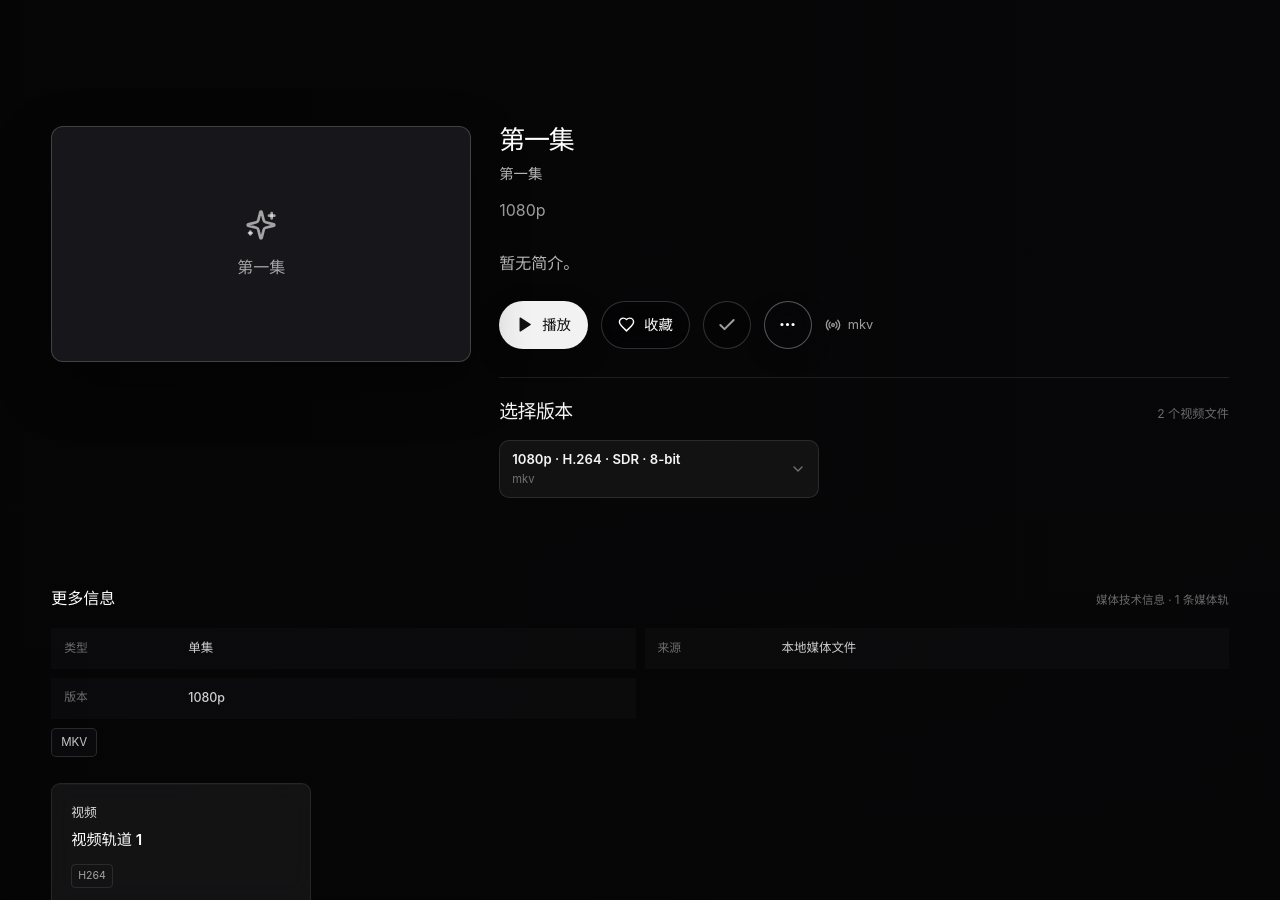
MediaDetailPage series hierarchy › lets a movie or episode detail choose the source passed to the player
The image size is (1280, 900).
Click the dropdown labelled "1080p · H.264 · SDR · 8-bit mkv" at (659, 469), box x1=499 y1=440 x2=819 y2=498
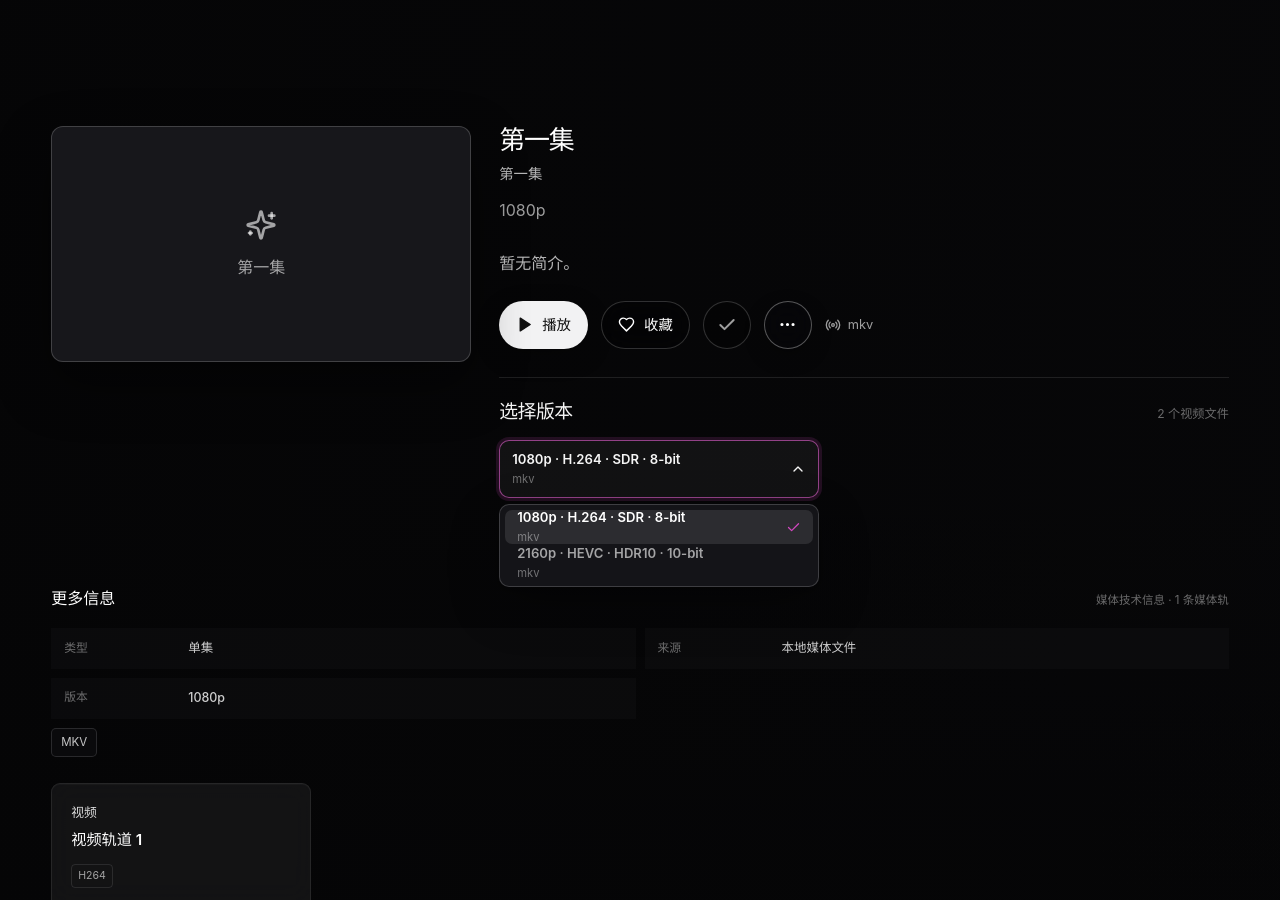
expect the dropdown labelled "1080p · H.264 · SDR · 8-bit mkv" is expanded: met, box x1=499 y1=440 x2=819 y2=498
expect the option "2160p · HEVC · HDR10 · 10-bit mkv" is shown: met
Click the option "2160p · HEVC · HDR10 · 10-bit mkv" at (659, 564), box x1=505 y1=546 x2=813 y2=581
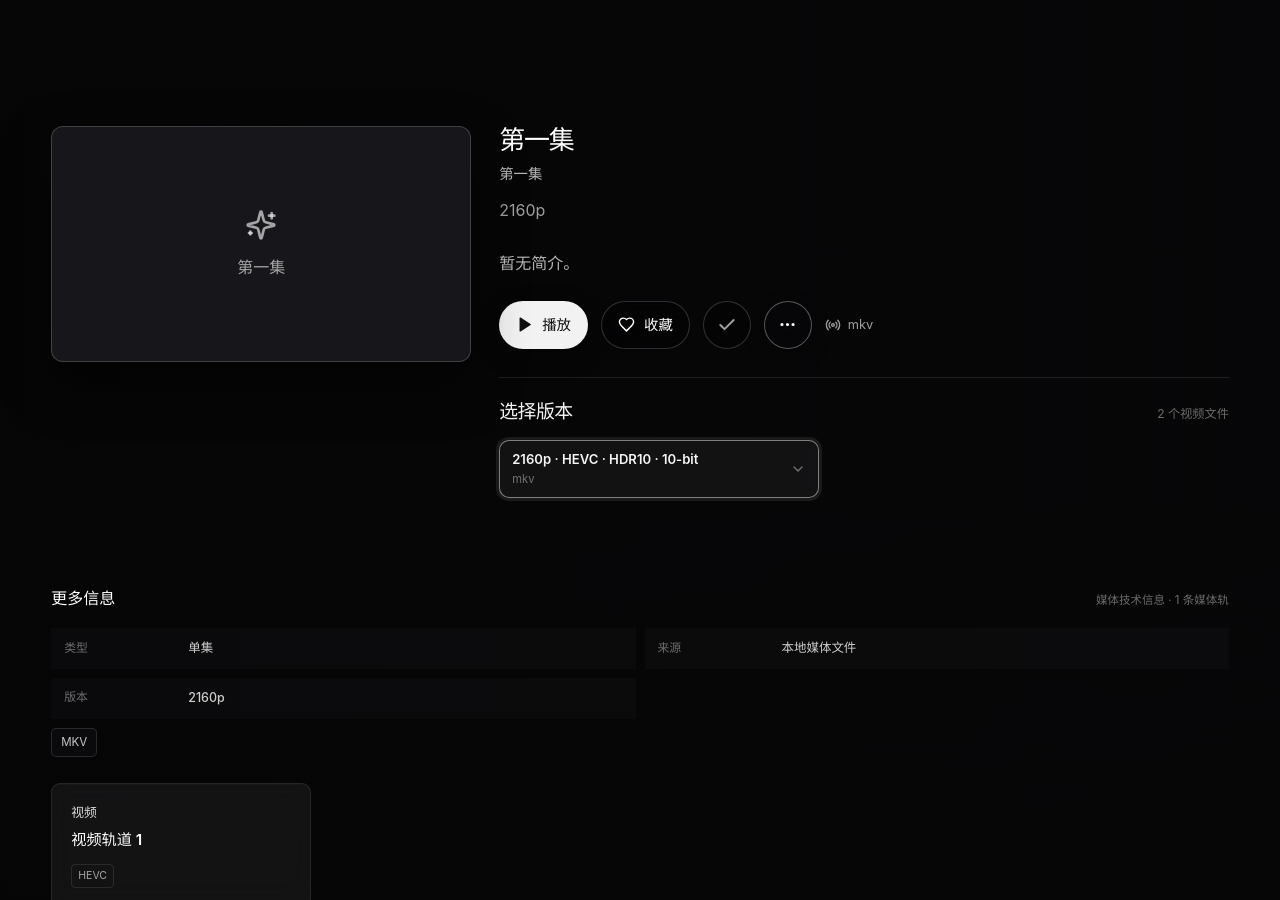
expect the dropdown labelled "2160p · HEVC · HDR10 · 10-bit mkv" is shown: met, box x1=499 y1=440 x2=819 y2=498
expect the dropdown labelled "2160p · HEVC · HDR10 · 10-bit mkv" is collapsed: met, box x1=499 y1=440 x2=819 y2=498
